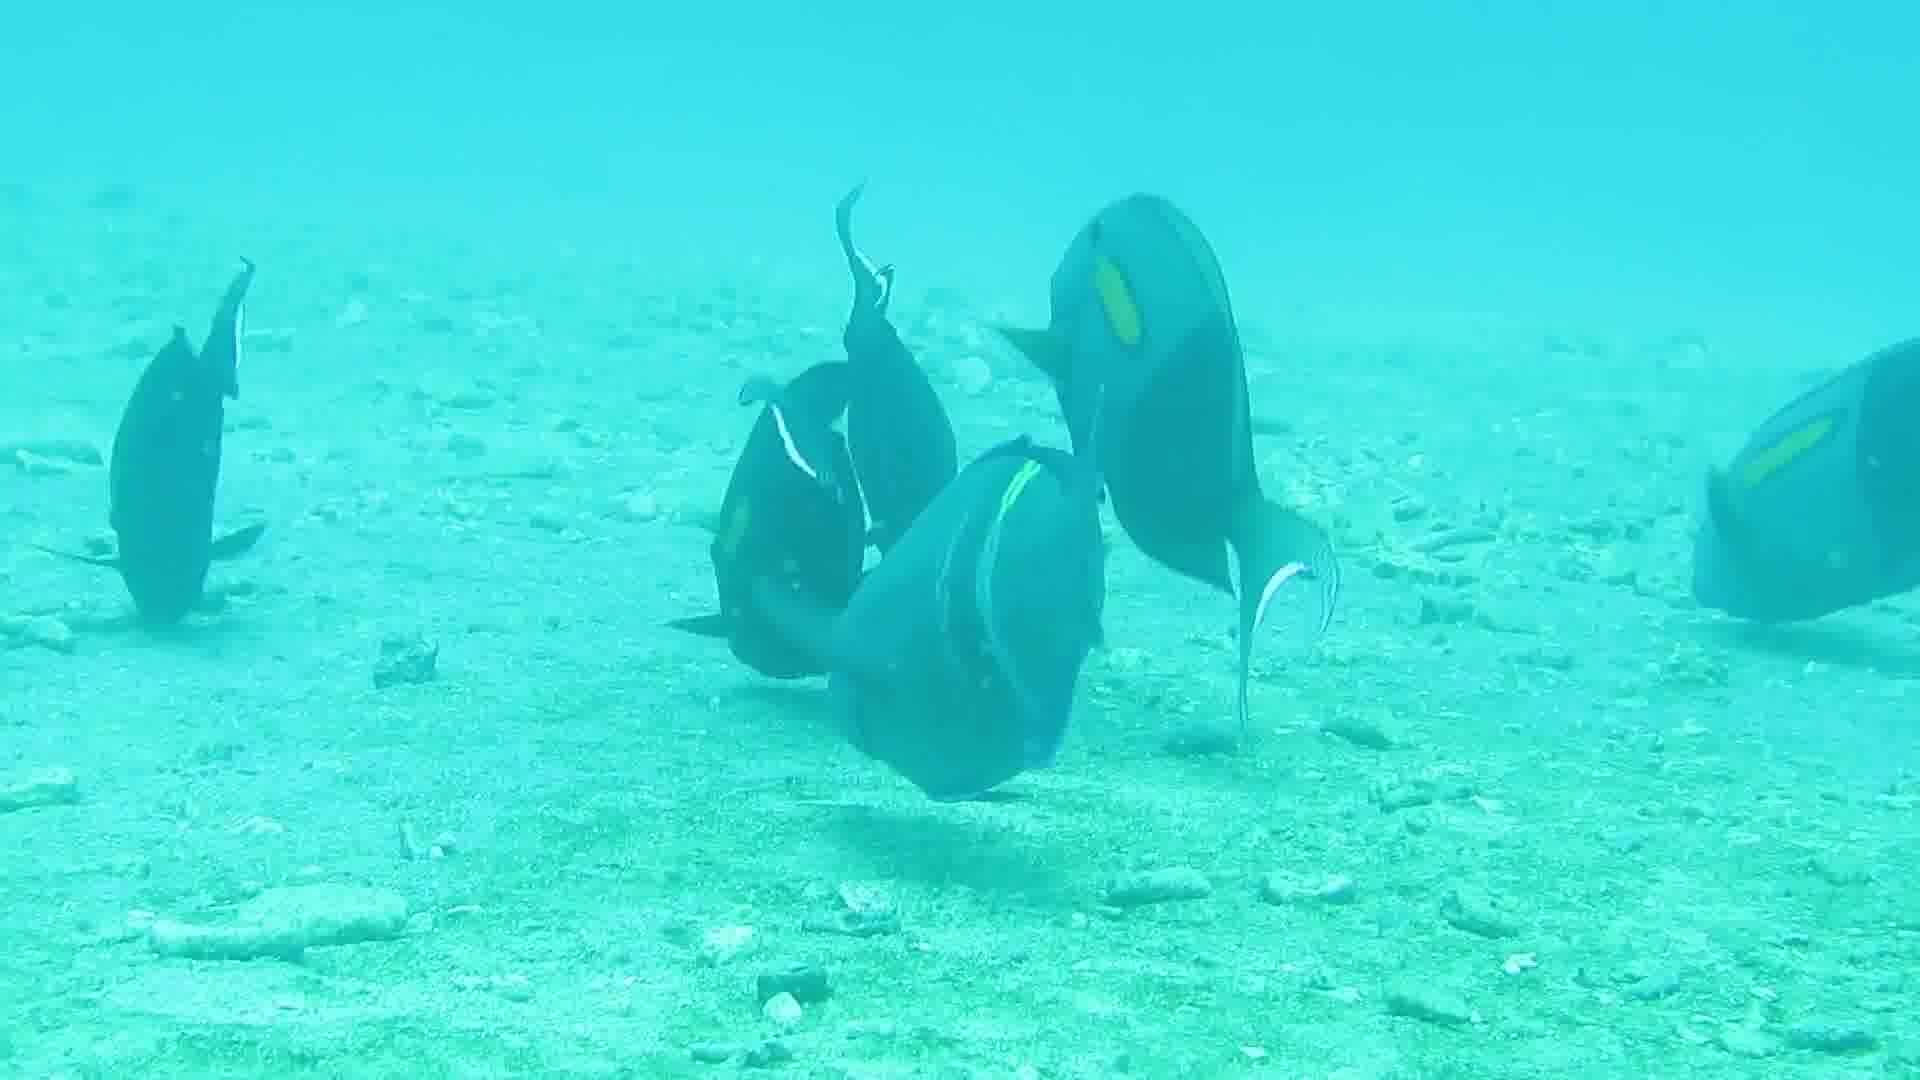Acanthurus olivaceus: (44, 264, 313, 644), (1651, 315, 1920, 694), (1035, 170, 1304, 549), (848, 439, 1117, 818), (680, 326, 891, 686)
